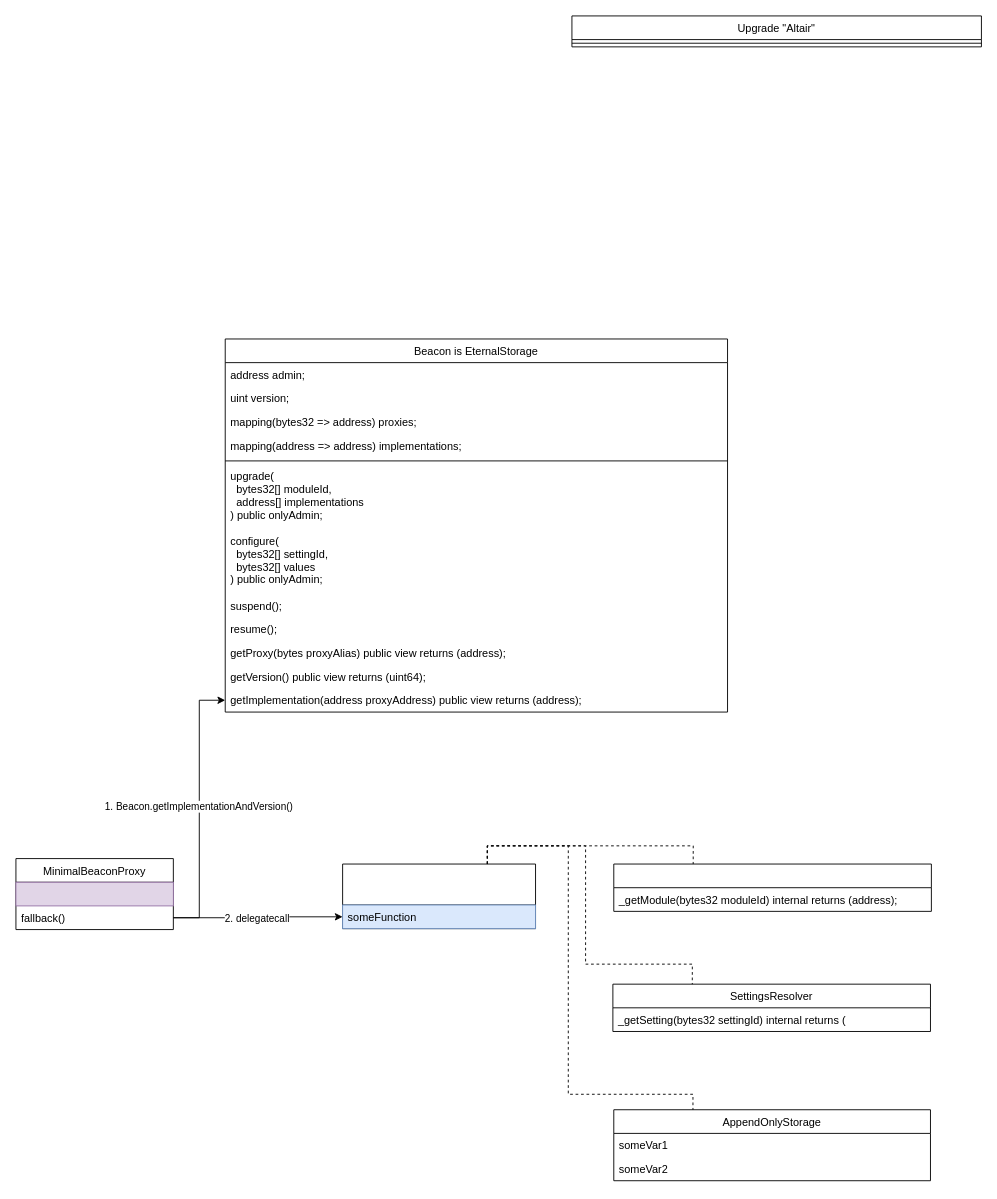
Some shapes in this 997 by 1199 pixel diagram are drawn without their labels. Here are the shapes that lost their labels. From the top down, the box of each, then its label:
(15, 881, 173, 906): someState
(342, 863, 536, 929): Contract is AppendOnlyStorage, BeaconResolver, SettingsResolver
(613, 863, 931, 911): BeaconResolver
